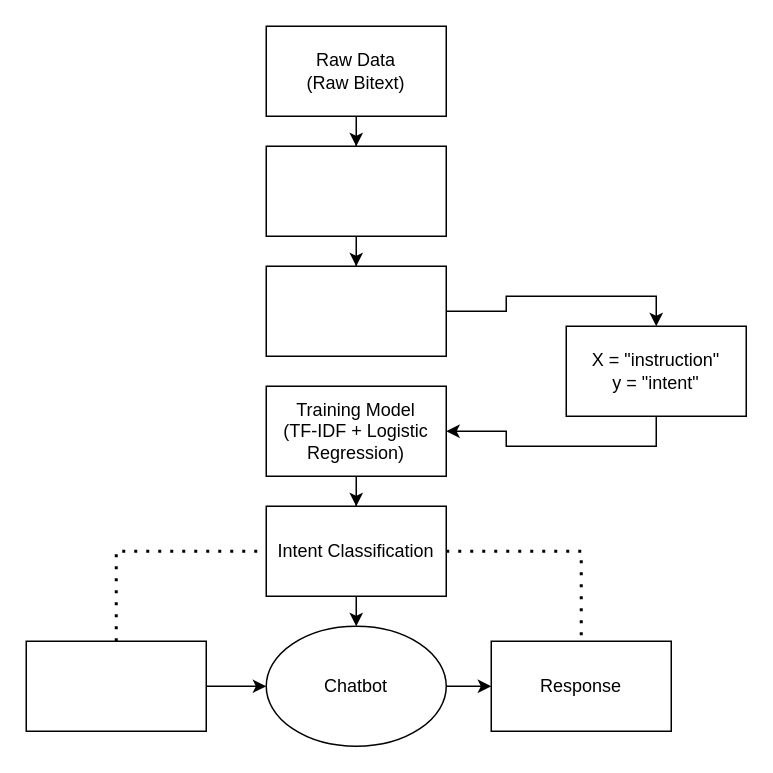
Image size: 773x773. Some labels were removed from this diagram. The box of each missing label's shape, as (x1, y1, x2, y2) in pixels:
Cleaned Data (Cleaned Bitext): (265, 265, 446, 356)
Preprocessing Data: (265, 145, 446, 236)
User Input: (25, 640, 206, 731)
